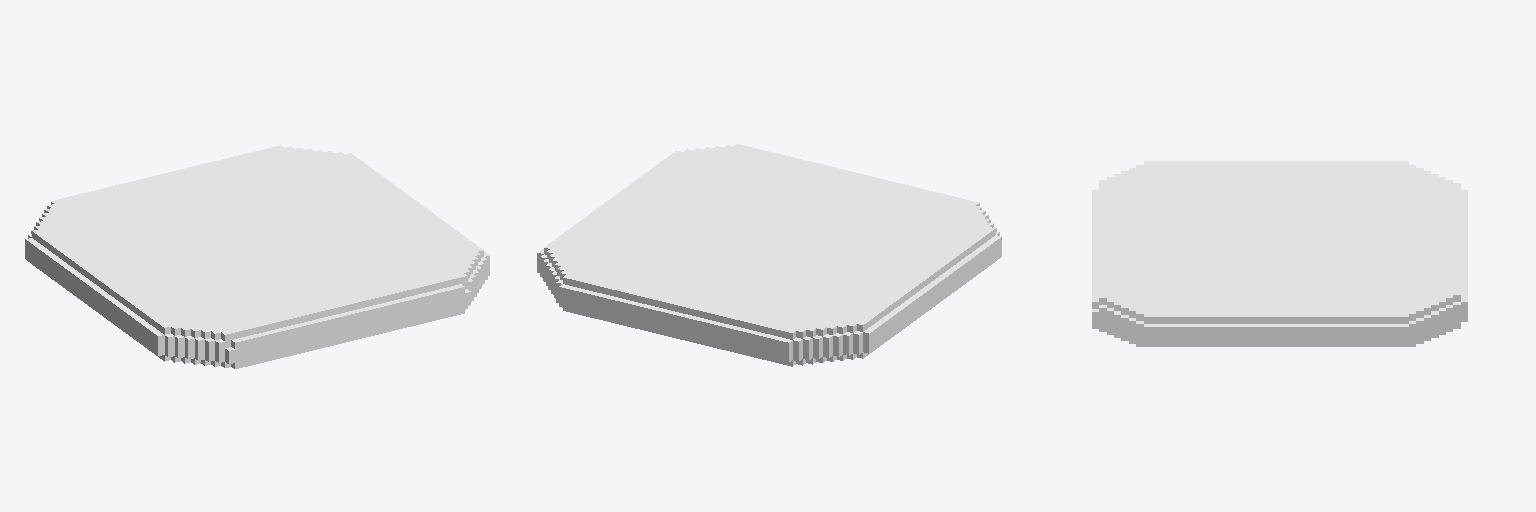
Rendered from ChairBang.obj.
3 renders of one model, left to right at view 1: azimuth 30°, elevation 25°; view 2: azimuth 150°, elevation 25°; view 3: azimuth 270°, elevation 25°, orthographic.
Visible parts, largest first — view 1: object 1; view 2: object 1; view 3: object 1.
Part boxes in pixels (bbox=[...]): object 1: bbox=[25, 145, 489, 368]; object 1: bbox=[537, 144, 1001, 366]; object 1: bbox=[1092, 161, 1467, 346].
Size of the model in its own units: 5.2 by 0.5 by 5.1.